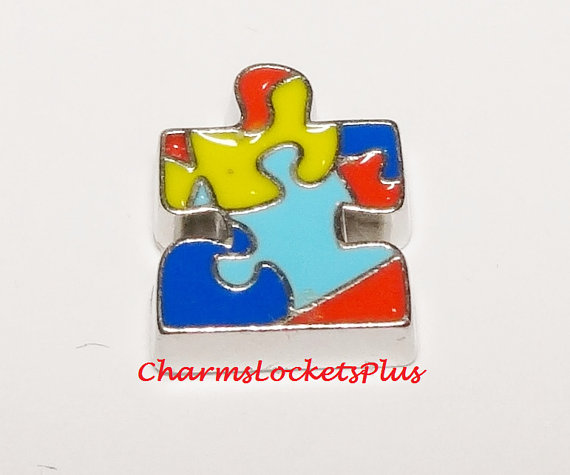puzzle piece: (128, 46, 440, 347)
